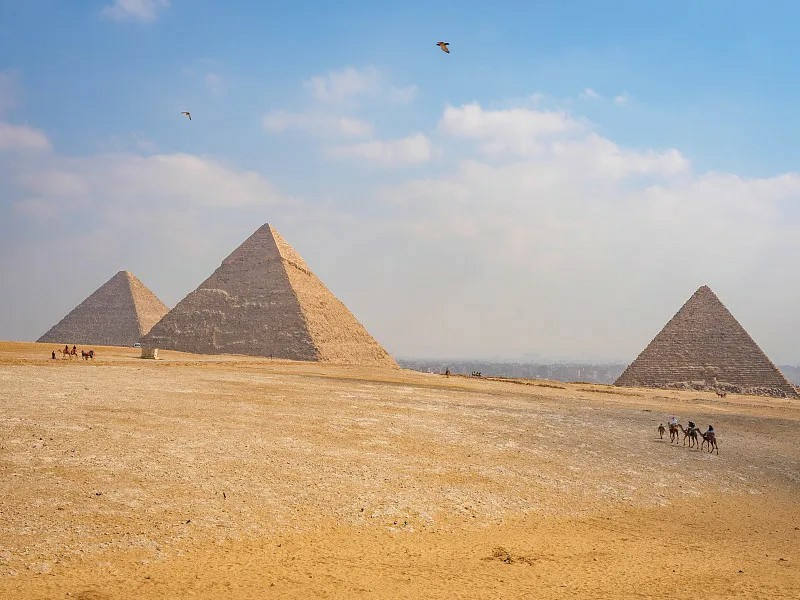Pyramid: (141, 222, 402, 371), (615, 286, 800, 400), (36, 272, 169, 348)
